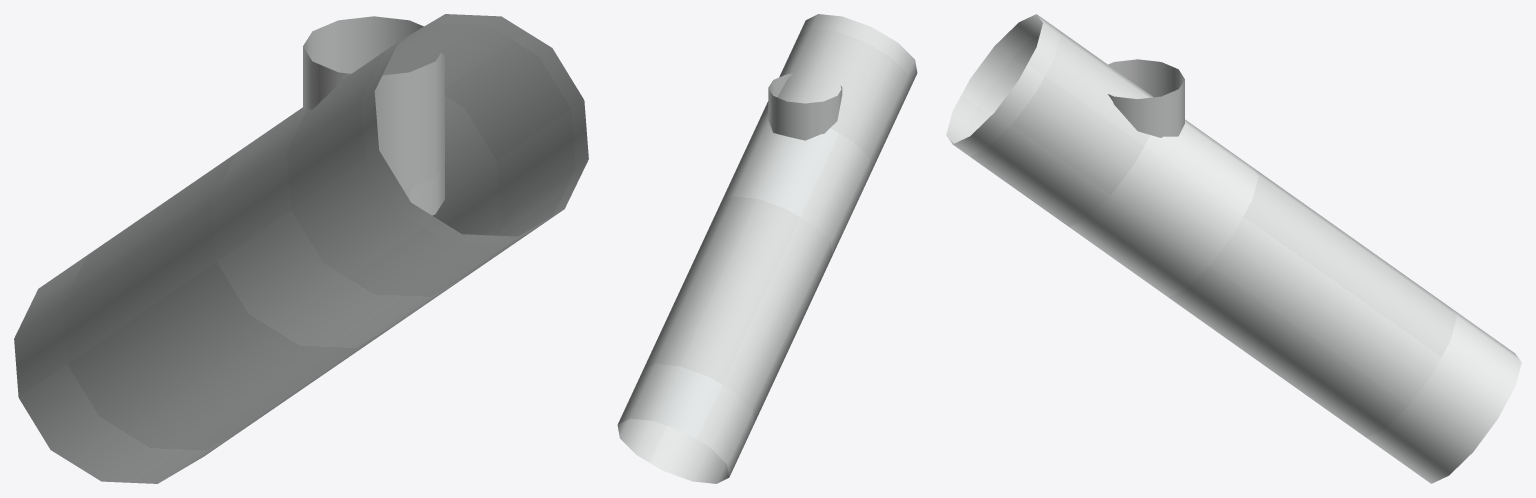
The model's file is luminairearm_truss10ftdouble_c11.obj.
3 views of the same model, side by side, from view 1: azimuth 30°, elevation 25°; view 2: azimuth 150°, elevation 25°; view 3: azimuth 270°, elevation 25° (orthographic). The views are drawn at different scales.
Parts seen in each view (by area): view 1: luminairearm_truss10ftdouble_c11; view 2: luminairearm_truss10ftdouble_c11; view 3: luminairearm_truss10ftdouble_c11.
Boxes of the visible parts, x1,y1,x2,y2 form: luminairearm_truss10ftdouble_c11: [14, 14, 588, 483]; luminairearm_truss10ftdouble_c11: [617, 14, 917, 483]; luminairearm_truss10ftdouble_c11: [946, 14, 1521, 483].
Bounding box in the file's own units: 0.1562 × 0.4951 × 0.5718.
